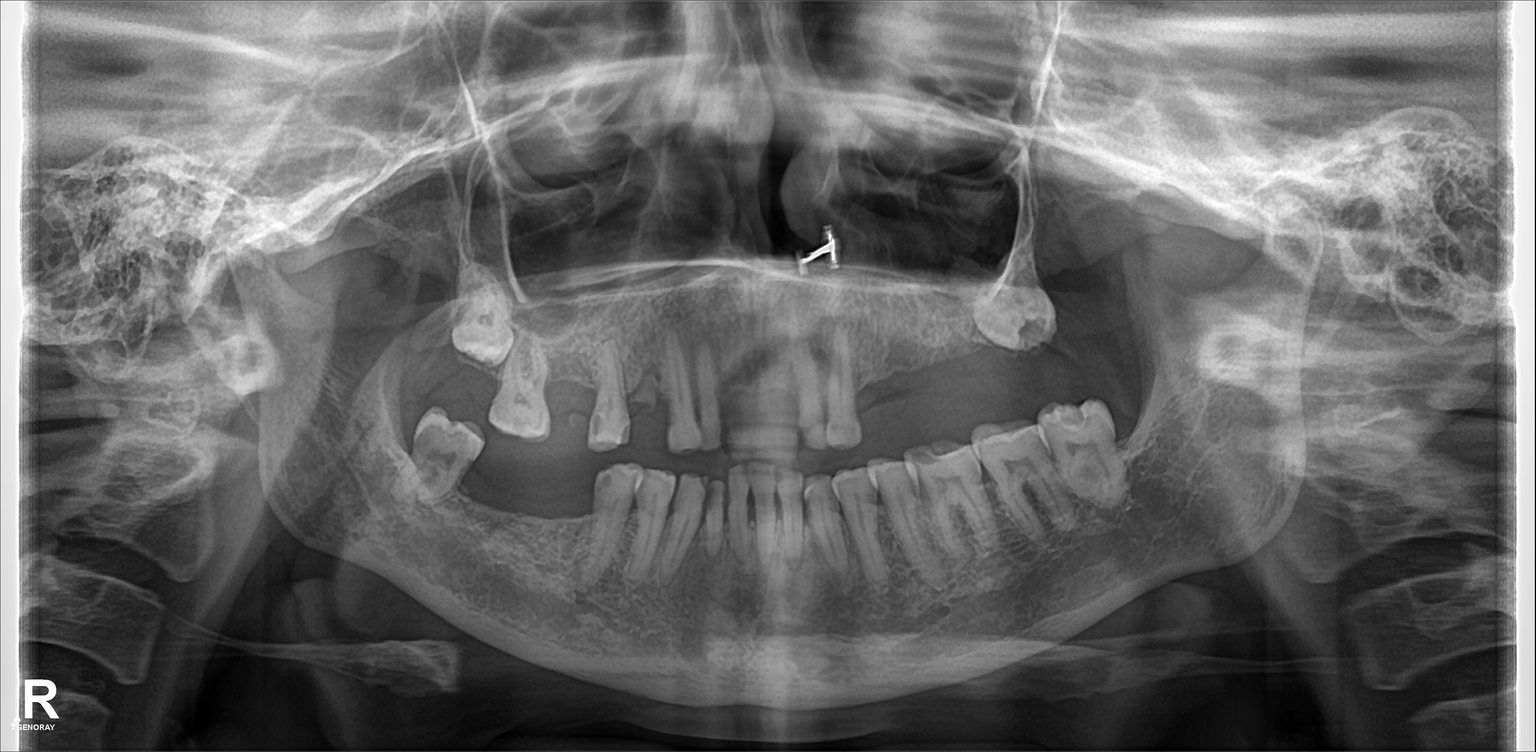Impacted Third Molar: (439, 275, 514, 368), (408, 415, 475, 517)
Missing Tooth: (892, 329, 958, 456), (538, 463, 591, 593), (1073, 294, 1131, 398), (479, 450, 530, 565), (544, 359, 593, 447), (847, 315, 883, 432), (1002, 342, 1061, 413), (963, 344, 995, 431)
Retained Root: (626, 367, 676, 441)
